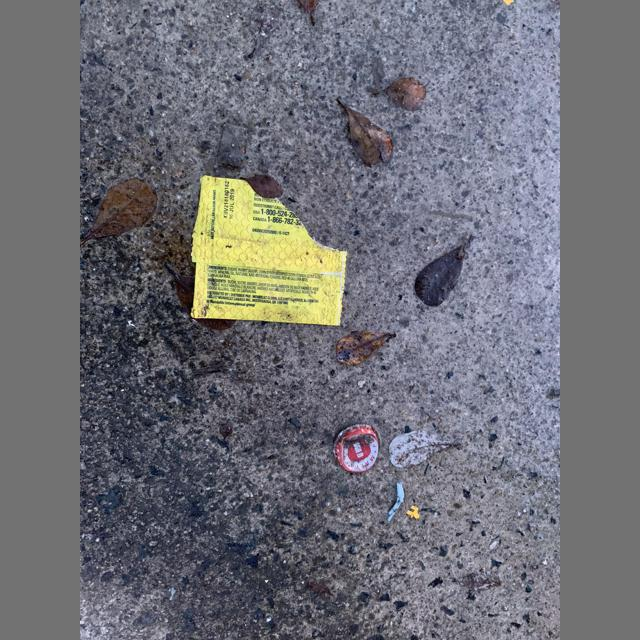litter: (191, 175, 347, 326), (333, 424, 380, 473), (388, 483, 404, 521), (406, 504, 420, 519)
